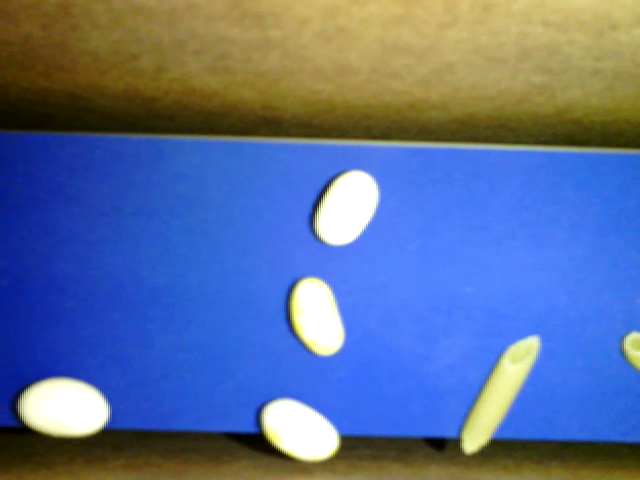penne: (461, 334, 540, 454)
